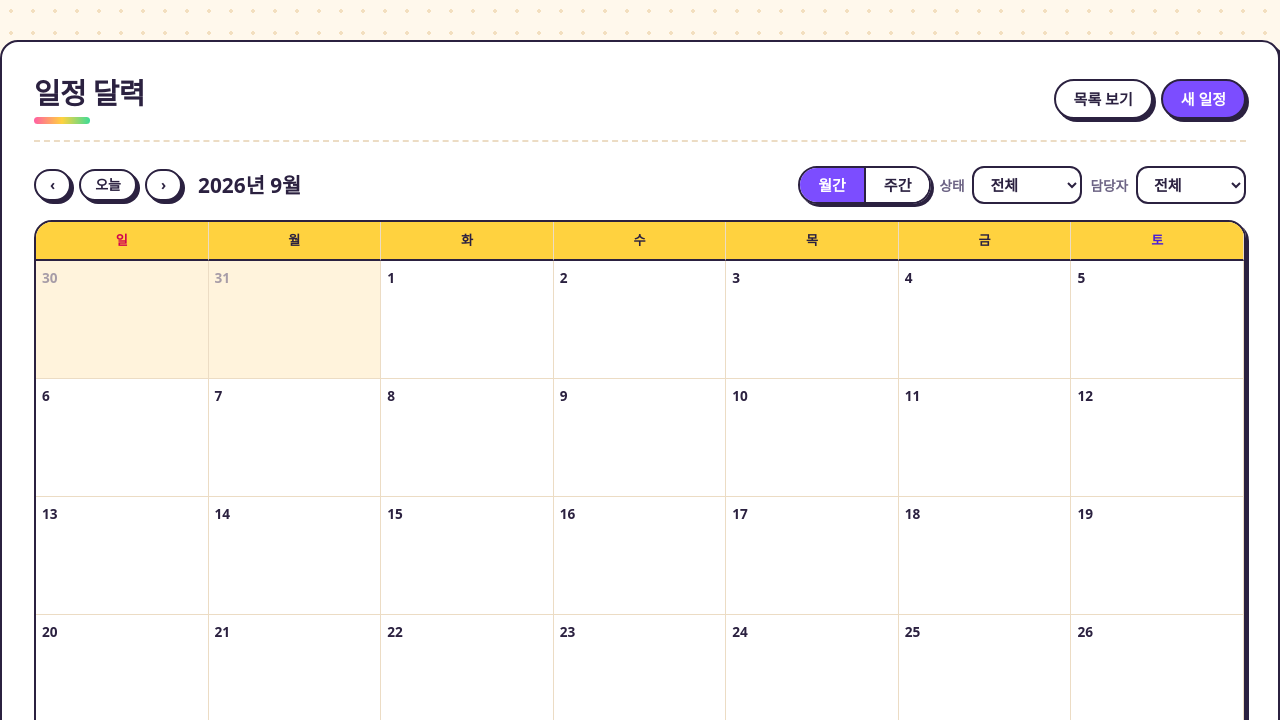
Test case: ScheduleCalendarPage › moves between months and back to today
This screenshot has width=1280, height=720.
Check: the heading "2026년 9월" is shown, box [198,169,301,202]
Click the button named "다음 달" at (164, 185), box [145,169,182,201]
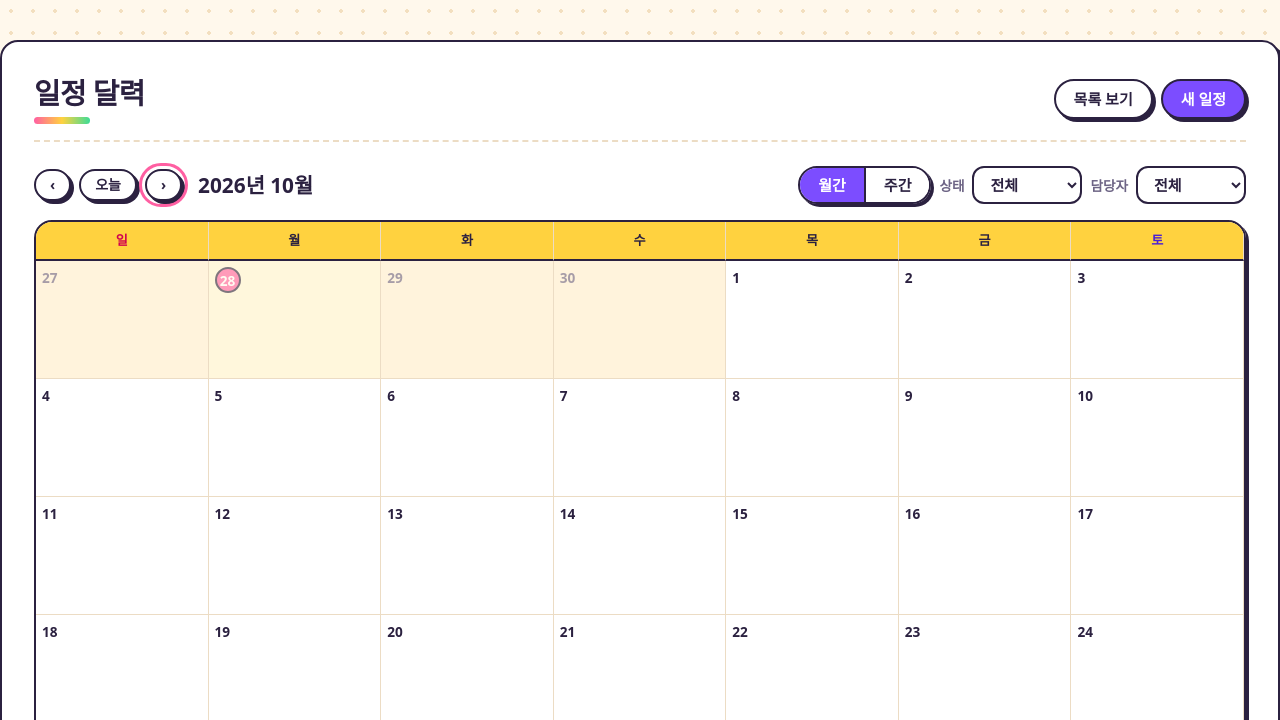
Check: the heading "2026년 10월" is shown, box [198,169,313,202]
Click the button named "이전 달" at (53, 185), box [34,169,71,201]
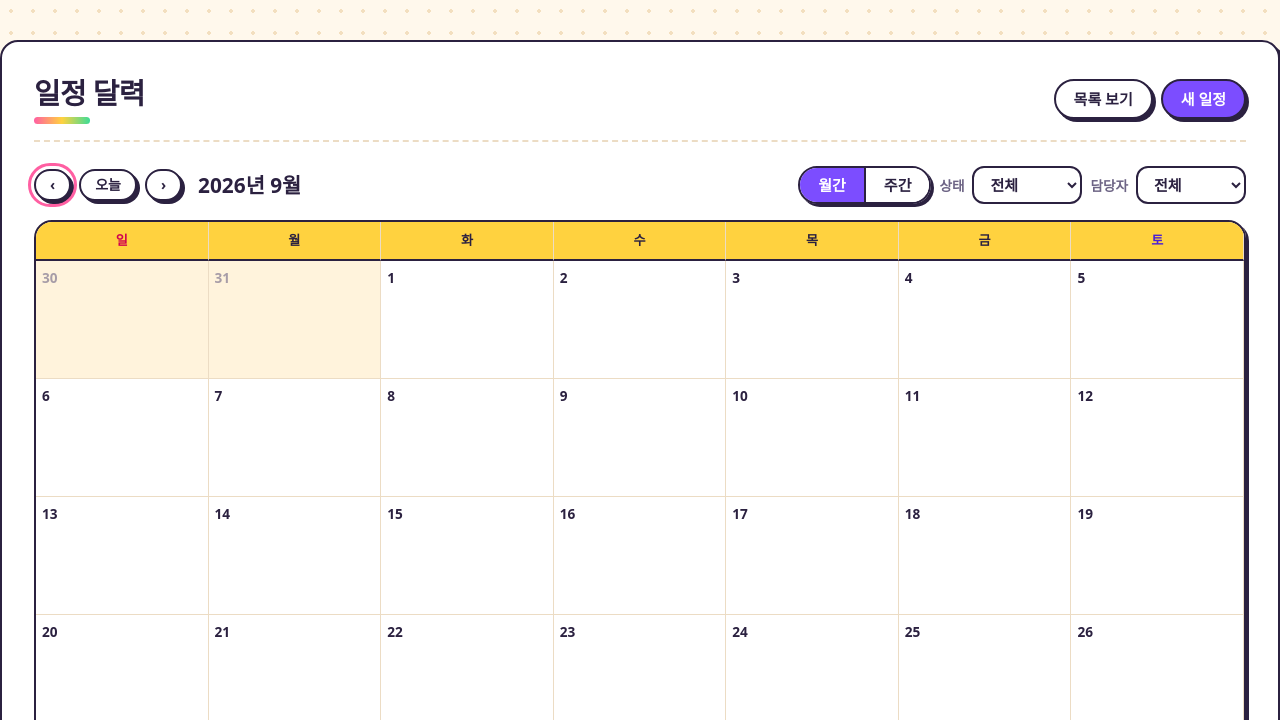
Click the button named "이전 달" at (53, 185), box [34,169,71,201]
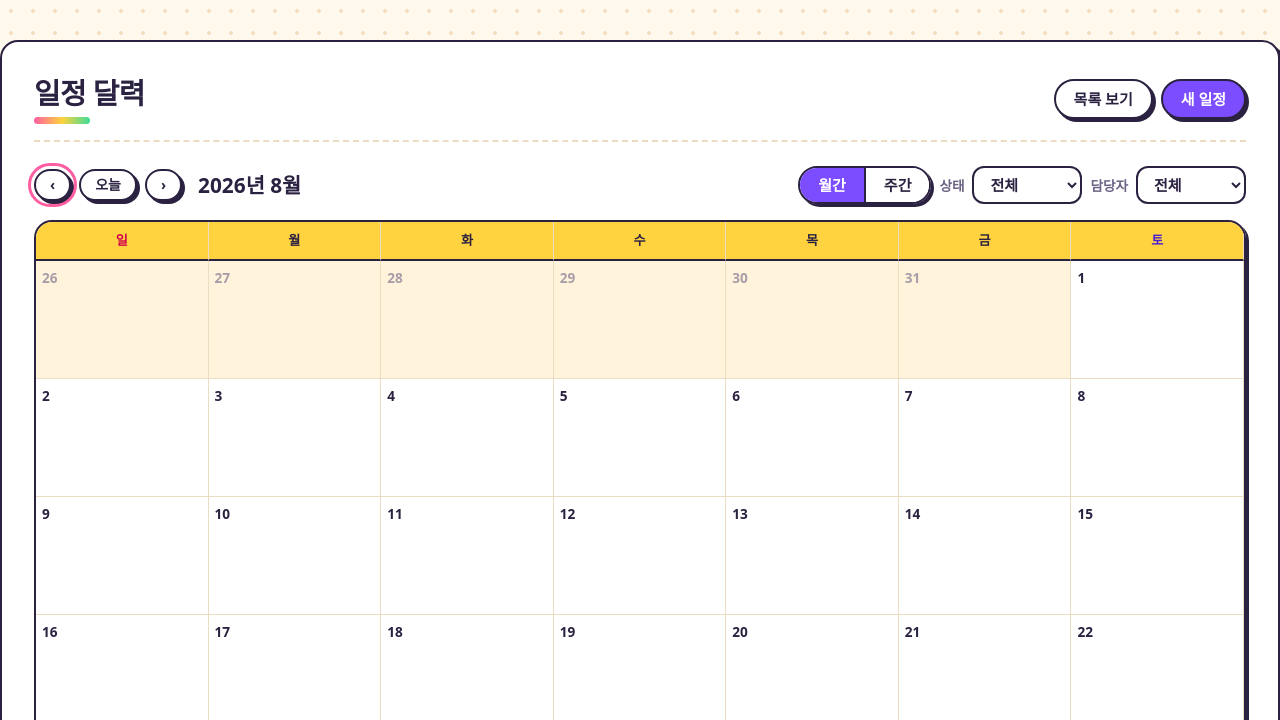
Check: the heading "2026년 8월" is shown, box [198,169,301,202]
Click the button "오늘" at (108, 185), box [79,169,137,201]
(page scrolled)
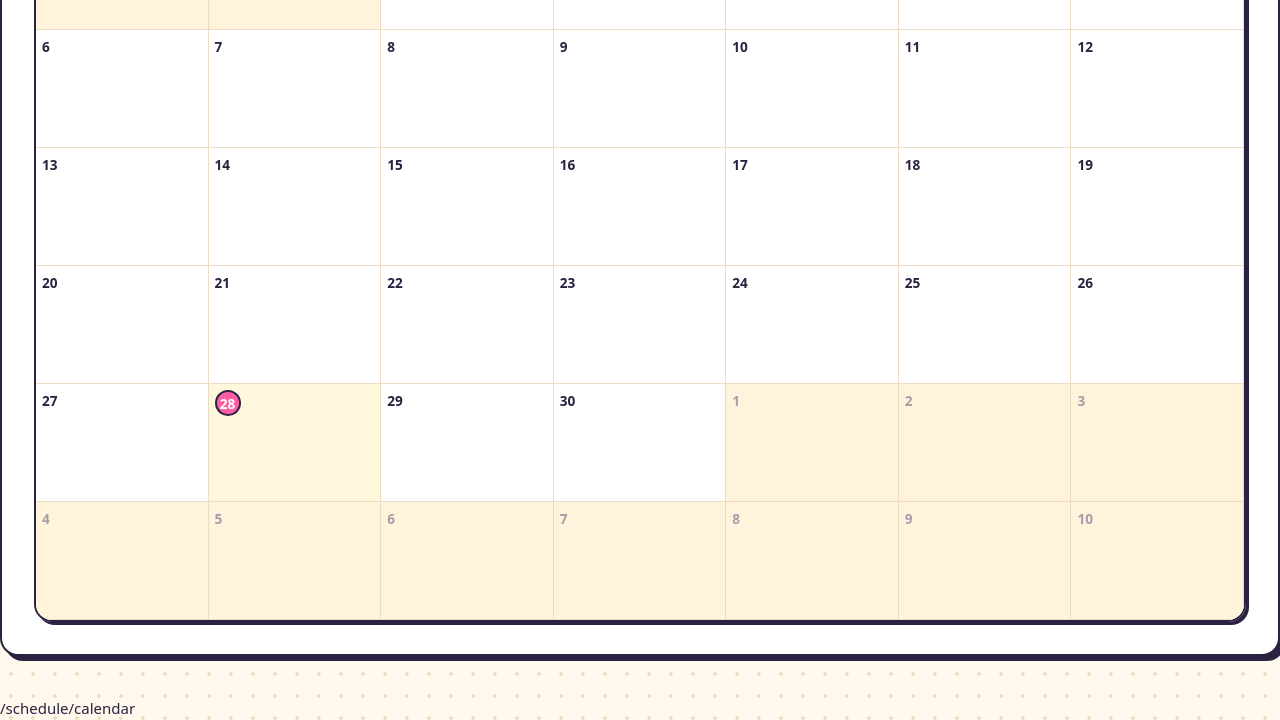
Check: the text with test id "location" reads "/schedule/calendar", box [0,698,135,718]
